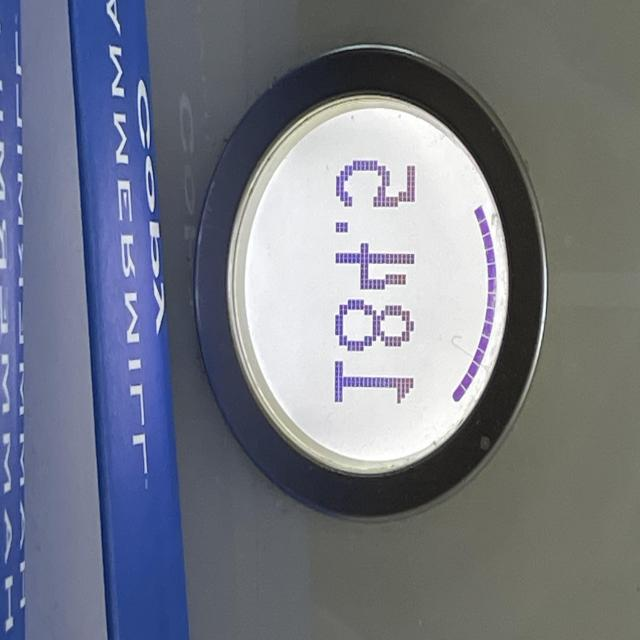ws: (194, 47, 549, 524)
